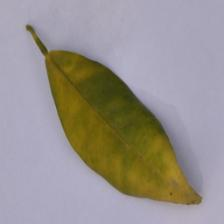greening: (41, 50, 215, 216)
